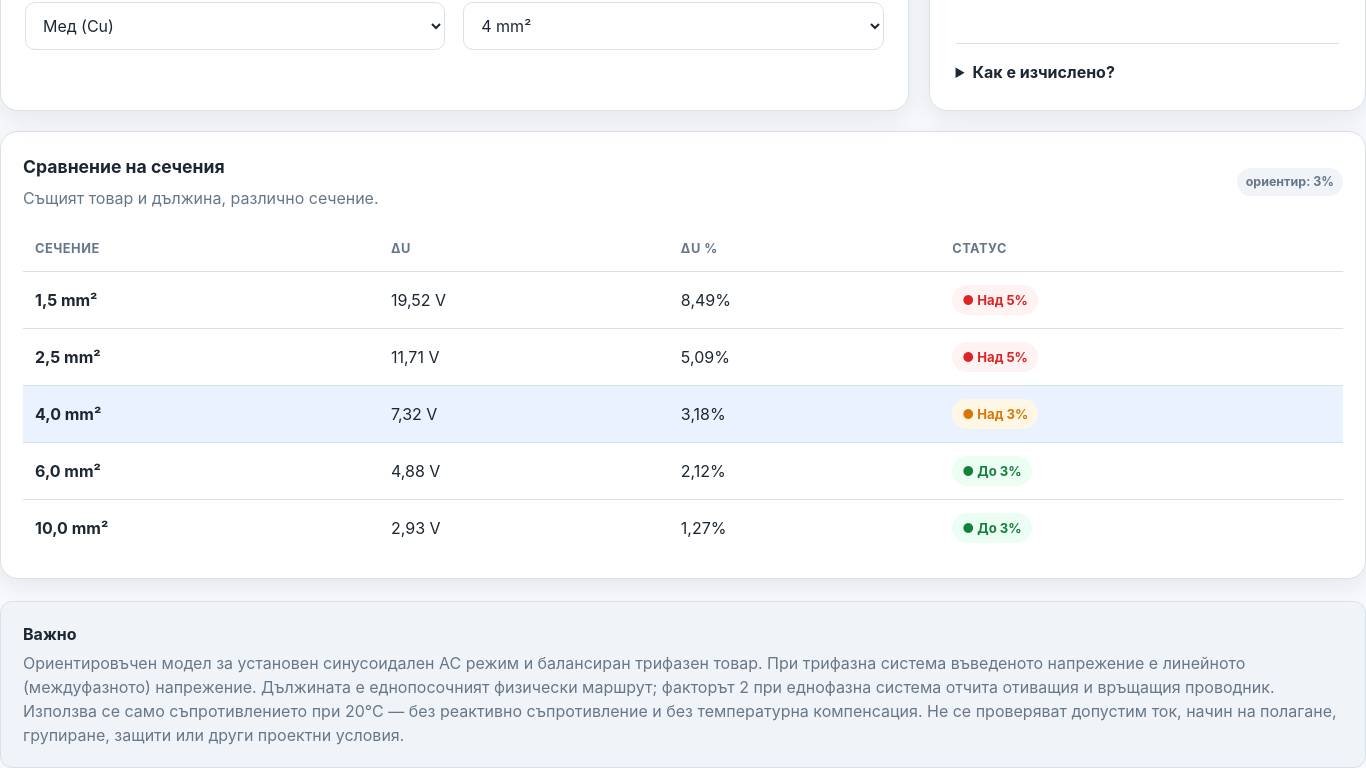
Test: VoltageDropCalculator › selects a cable section from the five-row comparison window
(page scrolled)
Click the button with aria-label "Избери сечение 10,0 mm²" at [683, 528], box x1=23 y1=500 x2=1343 y2=556
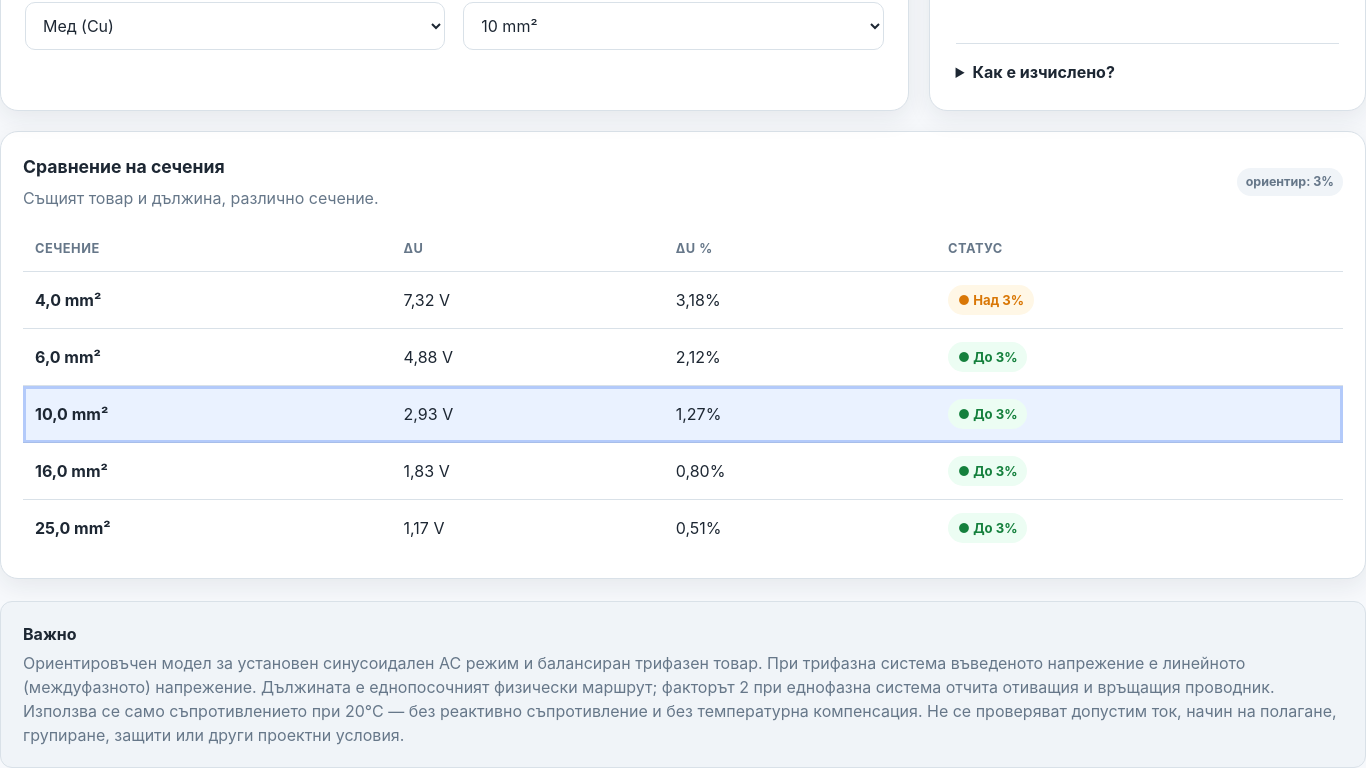
Expected: the dropdown with id "drop-section" shows "10 mm²", x1=464 y1=3 x2=883 y2=49
